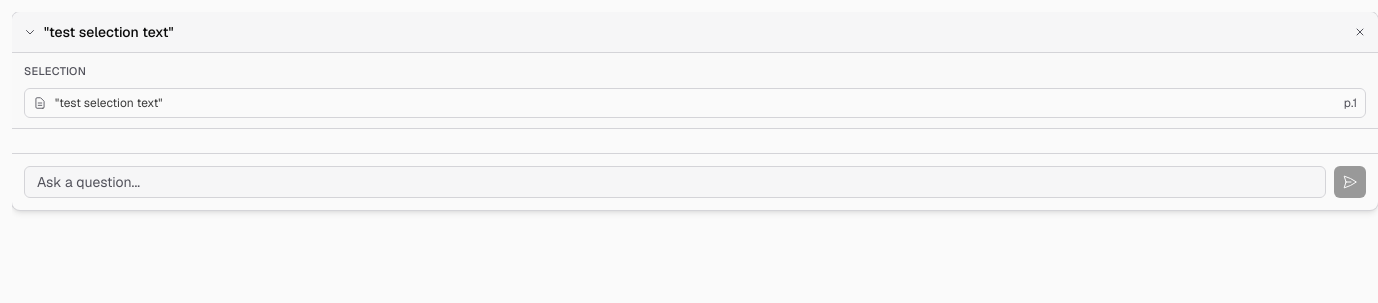
it: AIPopover › rate limiting › shows rate limit warning on 429
This screenshot has width=1378, height=303.
In the field with placeholder "Ask a question...": (675, 182) [24,166,1326,198], type "test"
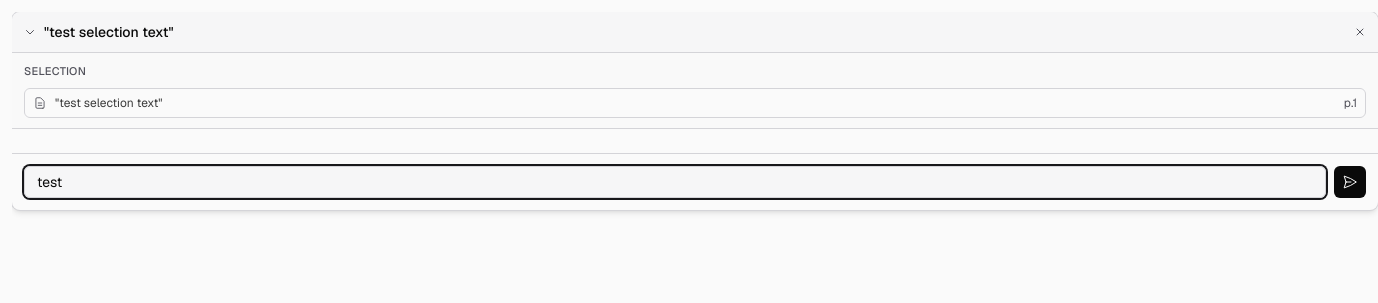
Submit the form with placeholder "Ask a question...", box [12,152,1377,210]
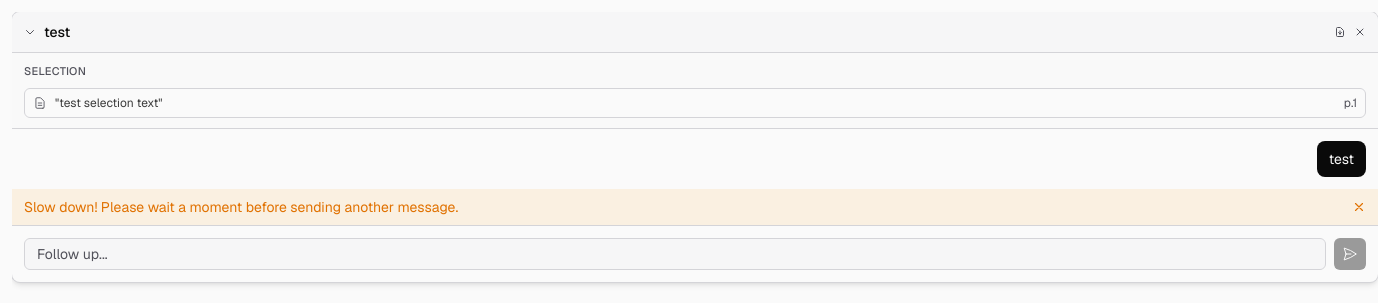
Expected: the text "Slow down" is shown, [24,198,458,216]
